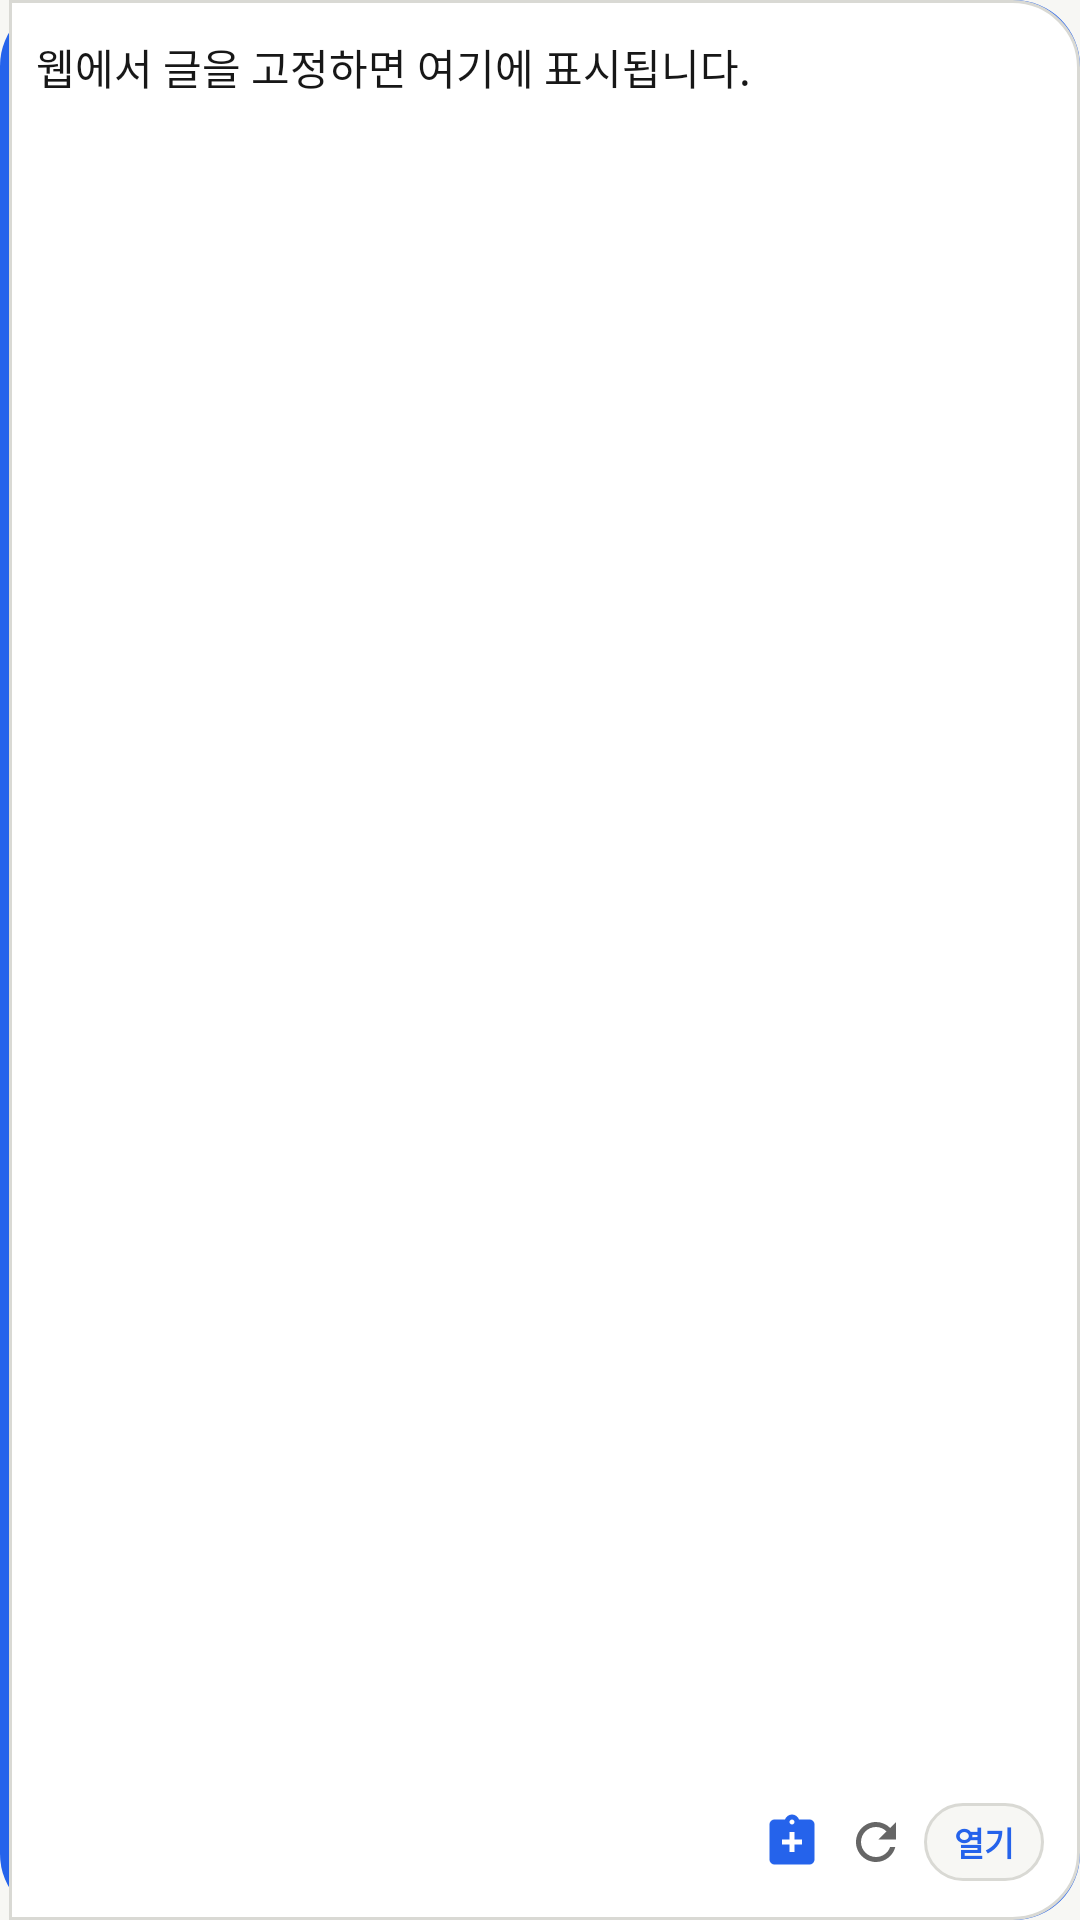

Icon click points for this 1080*1920 phone screenshot, format (x,y):
새로 고침: (876,1842)
클립보드 저장: (792,1839)
